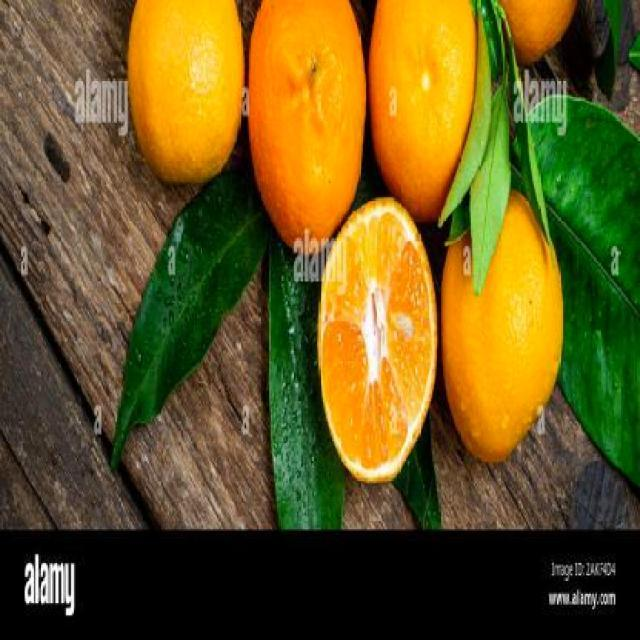Jeruk Sudah Matang: (437, 192, 563, 463), (246, 0, 368, 262), (368, 0, 482, 214), (122, 1, 245, 181)
